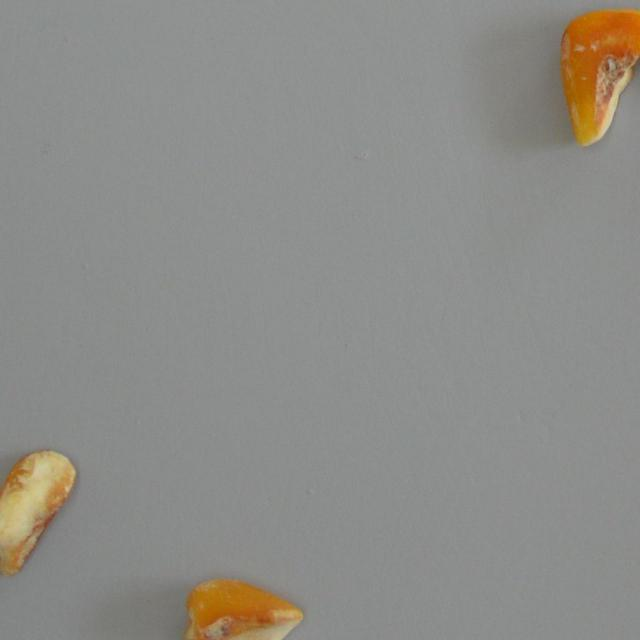dañado: (558, 6, 640, 150), (0, 450, 84, 580), (186, 573, 304, 640)
